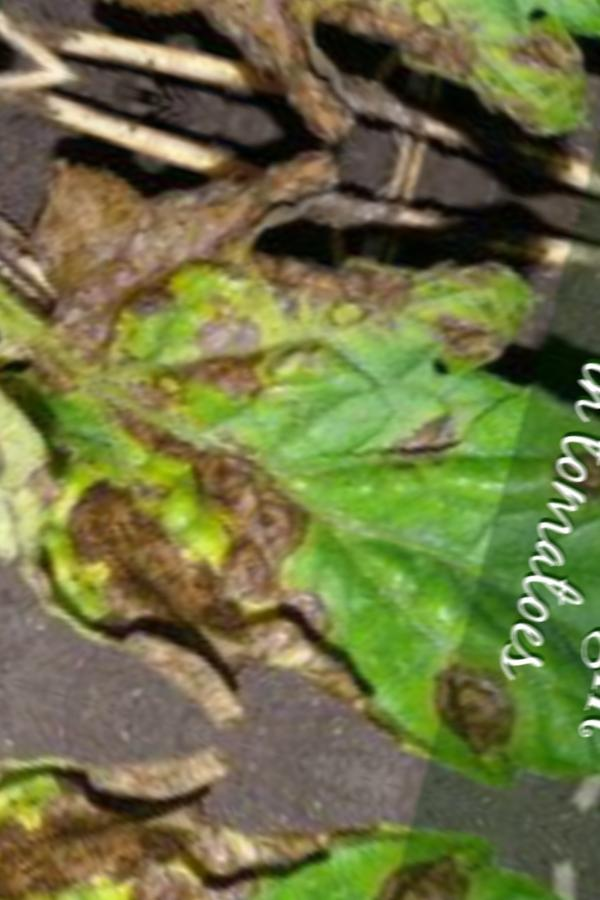Tomato Early blight leaf: (0, 112, 600, 833)
